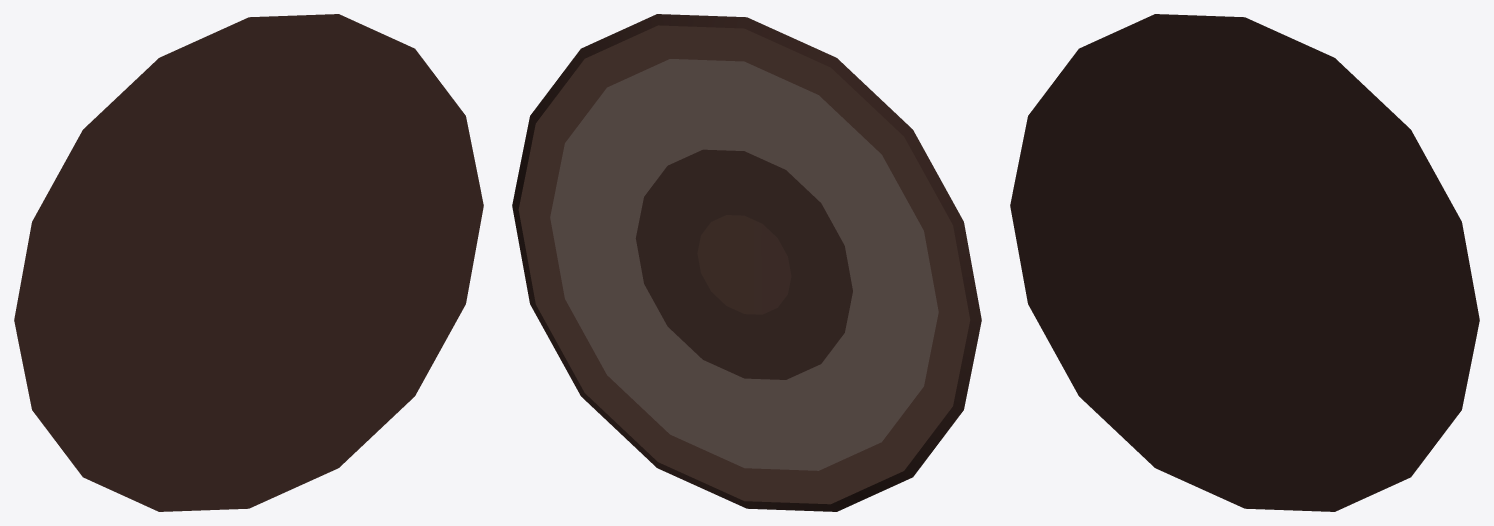
File: rug-round.glb
3 renders of one model, left to right at view 1: azimuth 30°, elevation 25°; view 2: azimuth 150°, elevation 25°; view 3: azimuth 330°, elevation 25°, orthographic.
Parts seen in each view (by area): view 1: carpet_003; view 2: carpet_003; view 3: carpet_003.
Part boxes in pixels (bbox=[...]): carpet_003: bbox=[14, 14, 483, 511]; carpet_003: bbox=[512, 14, 981, 511]; carpet_003: bbox=[1010, 14, 1479, 511].
Size of the model in its own units: 2.36 by 2.36 by 0.0222.
1 material, 1 textured.
